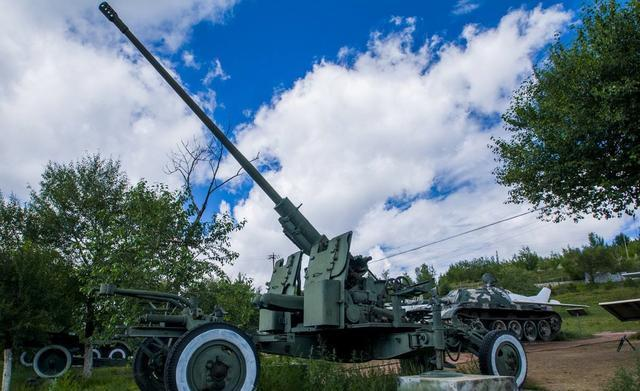MIL_SPG: (101, 2, 464, 390)
